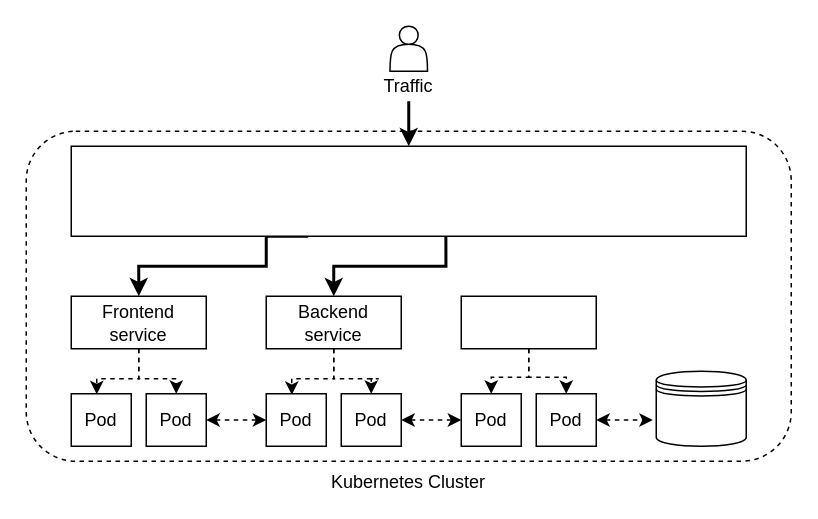
Image size: 818x519. Some labels were removed from this diagram. The shapes that lost their labels are listed below. From the top down, each one's box as (x1, y1, x2, y2) in pixels, then its label:
(70, 145, 746, 236): Ingress taskapp.acme.com api.taskapp.acme.com
(460, 295, 596, 349): MongoDB service
(655, 370, 746, 446): MongoDB PVC
